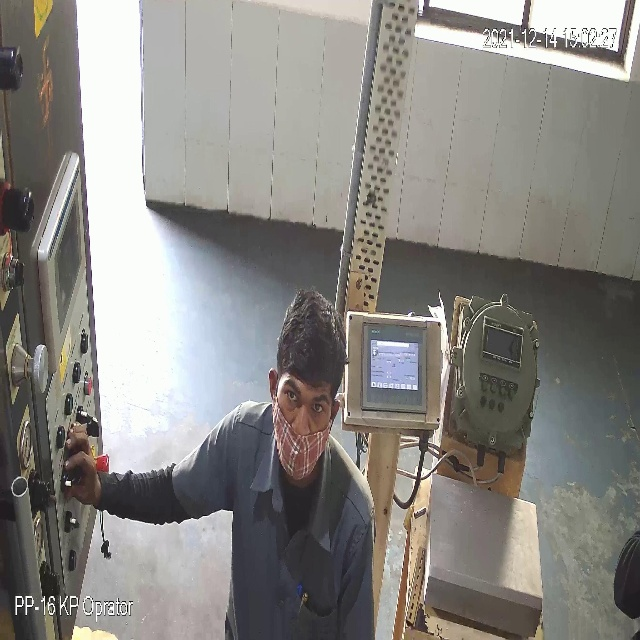Sin_gafas: (277, 380, 333, 421)
